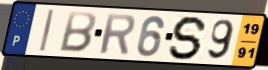6: (135, 14, 166, 58)
9: (206, 18, 236, 61)
B: (57, 10, 98, 54)
I: (38, 8, 56, 54)
R: (98, 12, 137, 56)
S: (167, 15, 210, 62)
